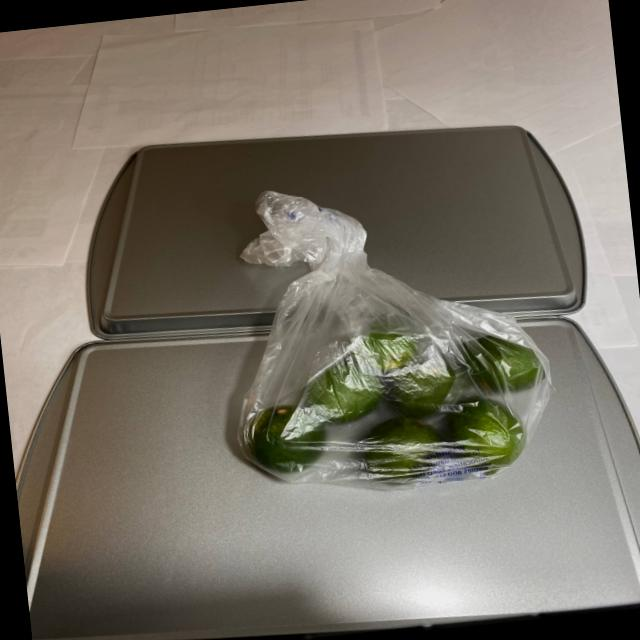lemon: (233, 310, 554, 497)
